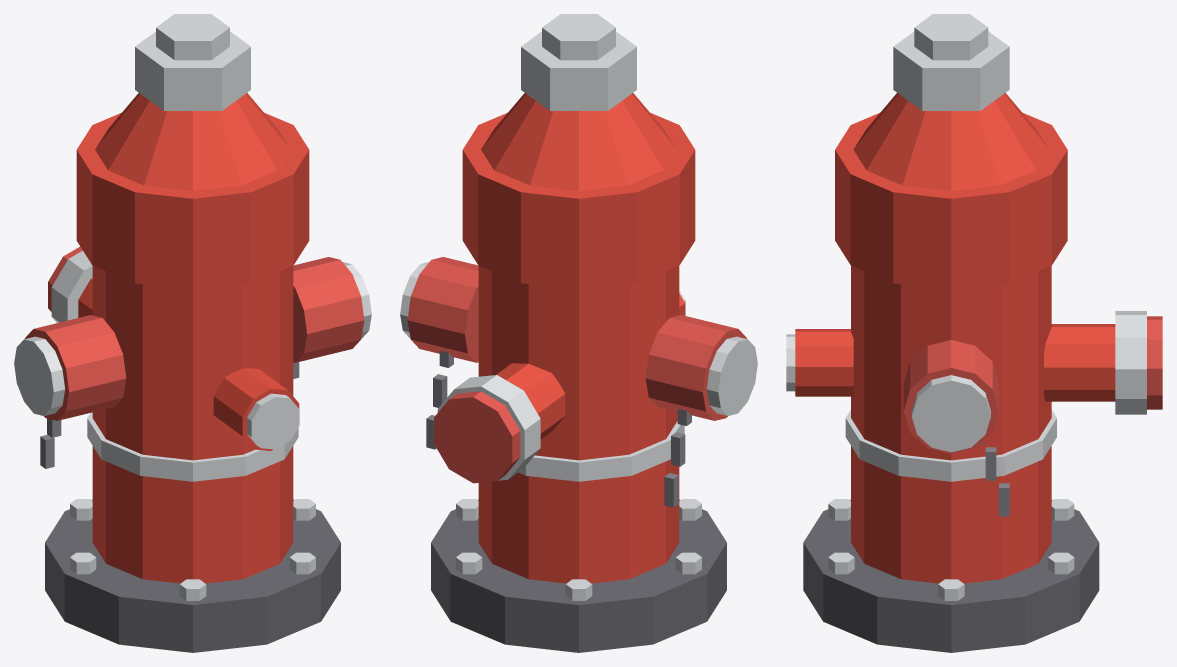
Rendered from nyc_fire_hydrant.fbx.
3 views of the same model, side by side, from view 1: azimuth 30°, elevation 25°; view 2: azimuth 150°, elevation 25°; view 3: azimuth 270°, elevation 25° (orthographic).
Visible parts, largest first — view 1: nyc_fire_hydrant; view 2: nyc_fire_hydrant; view 3: nyc_fire_hydrant.
Boxes of the visible parts, box(x1,y1,x2,y2) form: nyc_fire_hydrant: box(14, 14, 371, 652); nyc_fire_hydrant: box(400, 14, 757, 652); nyc_fire_hydrant: box(786, 14, 1162, 652).
Bounding box in the file's own units: 139 × 235 × 143.
